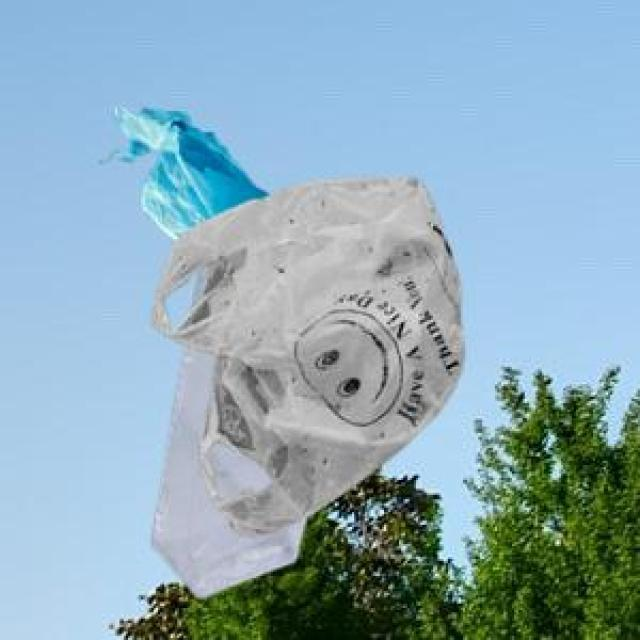waste: (127, 113, 463, 605)
